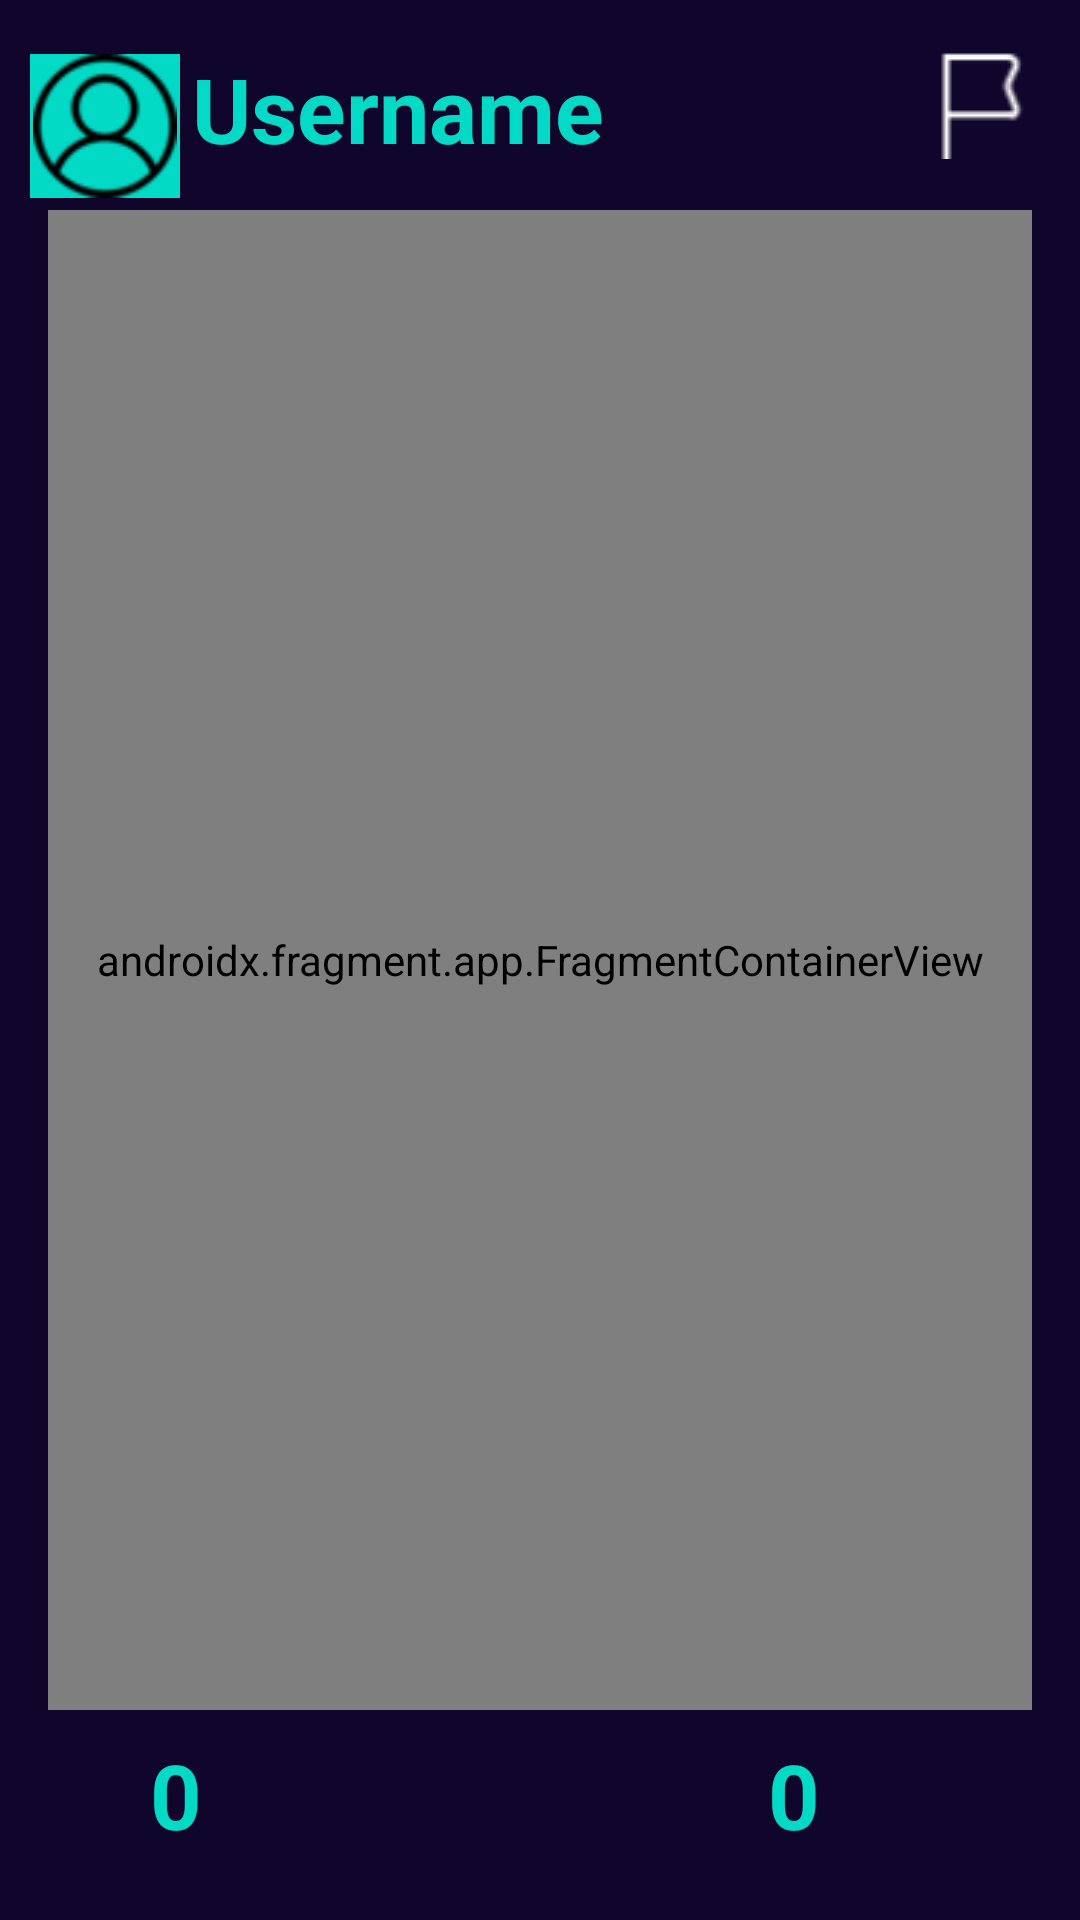

Icons on this 1080 x 1920 Android screen, each with its box as Rect(x1, y1, x2, y2):
flag: Rect(941, 53, 1022, 159)
